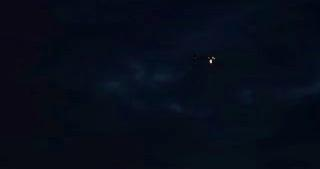Plane: (198, 53, 225, 68)
